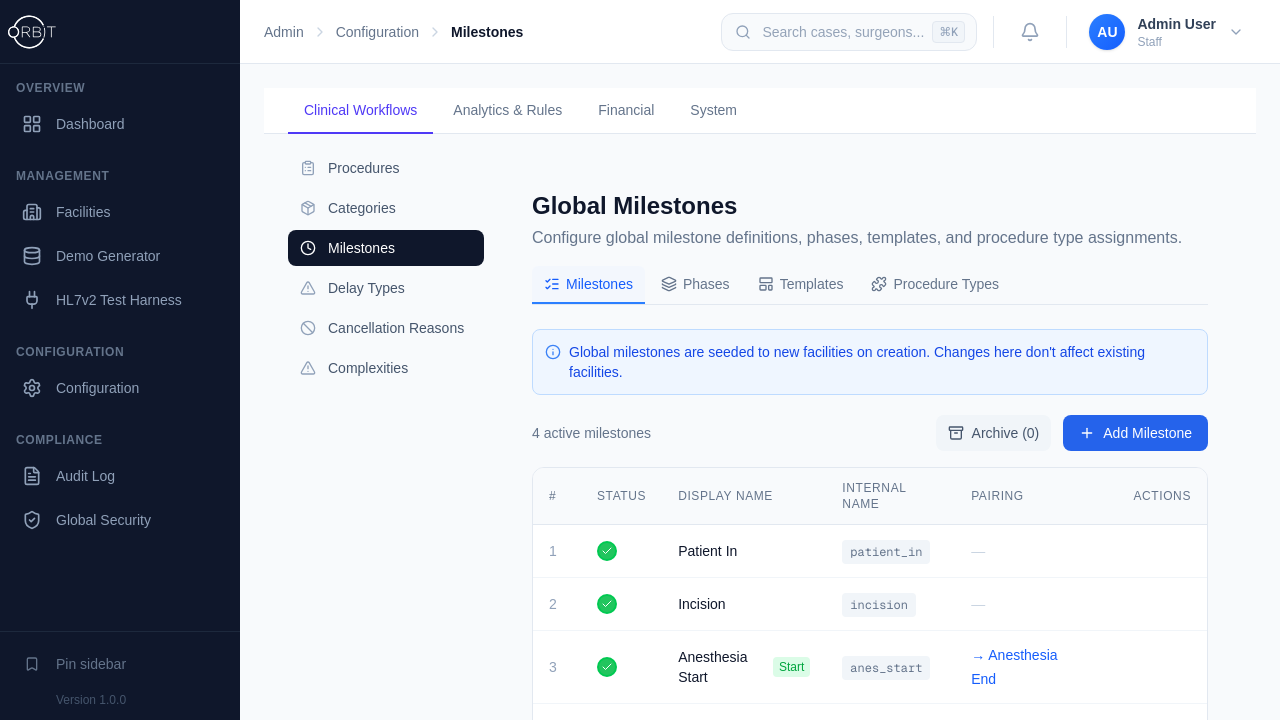
Test case: AdminMilestonesSettingsPage › Milestones tab - actions › opens add modal when Add Milestone clicked
The width and height of the screenshot is (1280, 720).
# Click the first "Add Milestone" (the button)
Click the button "Add Milestone". click: click(1136, 433)
box: left=1063, top=415, right=1208, bottom=451
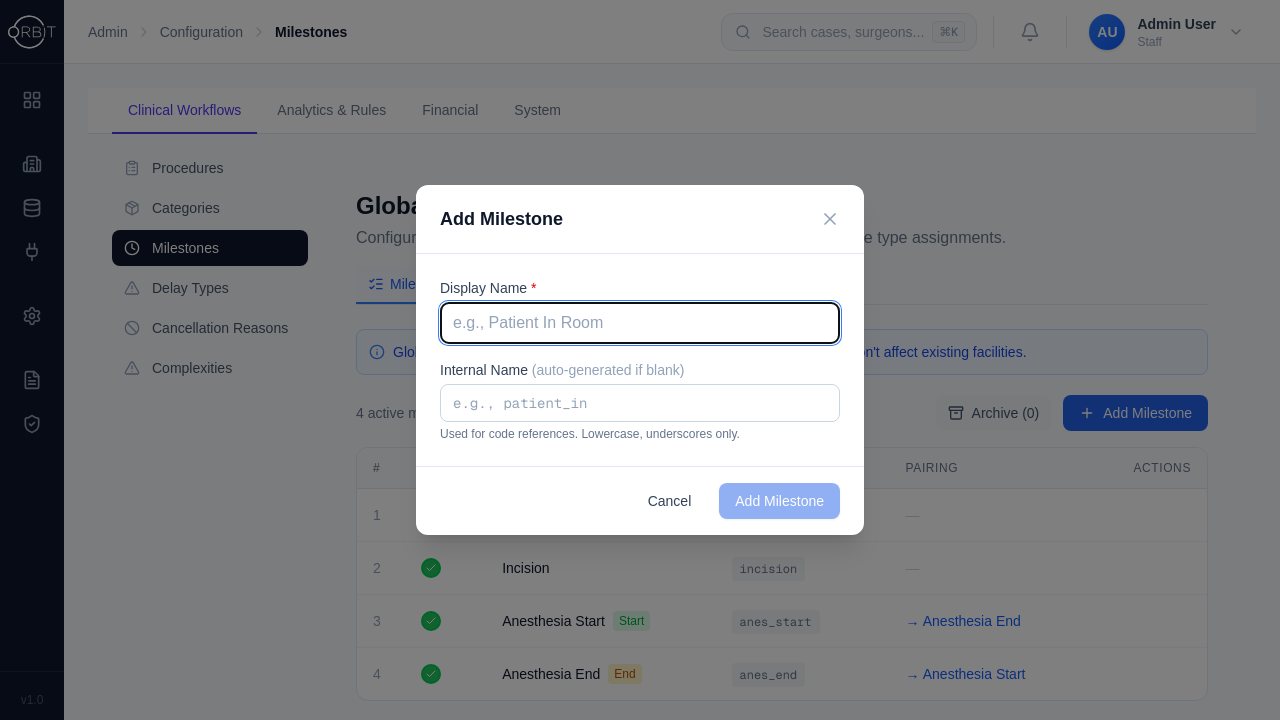
Expected: the field with placeholder "e.g., Patient In Room" is shown, left=440, top=302, right=840, bottom=344
